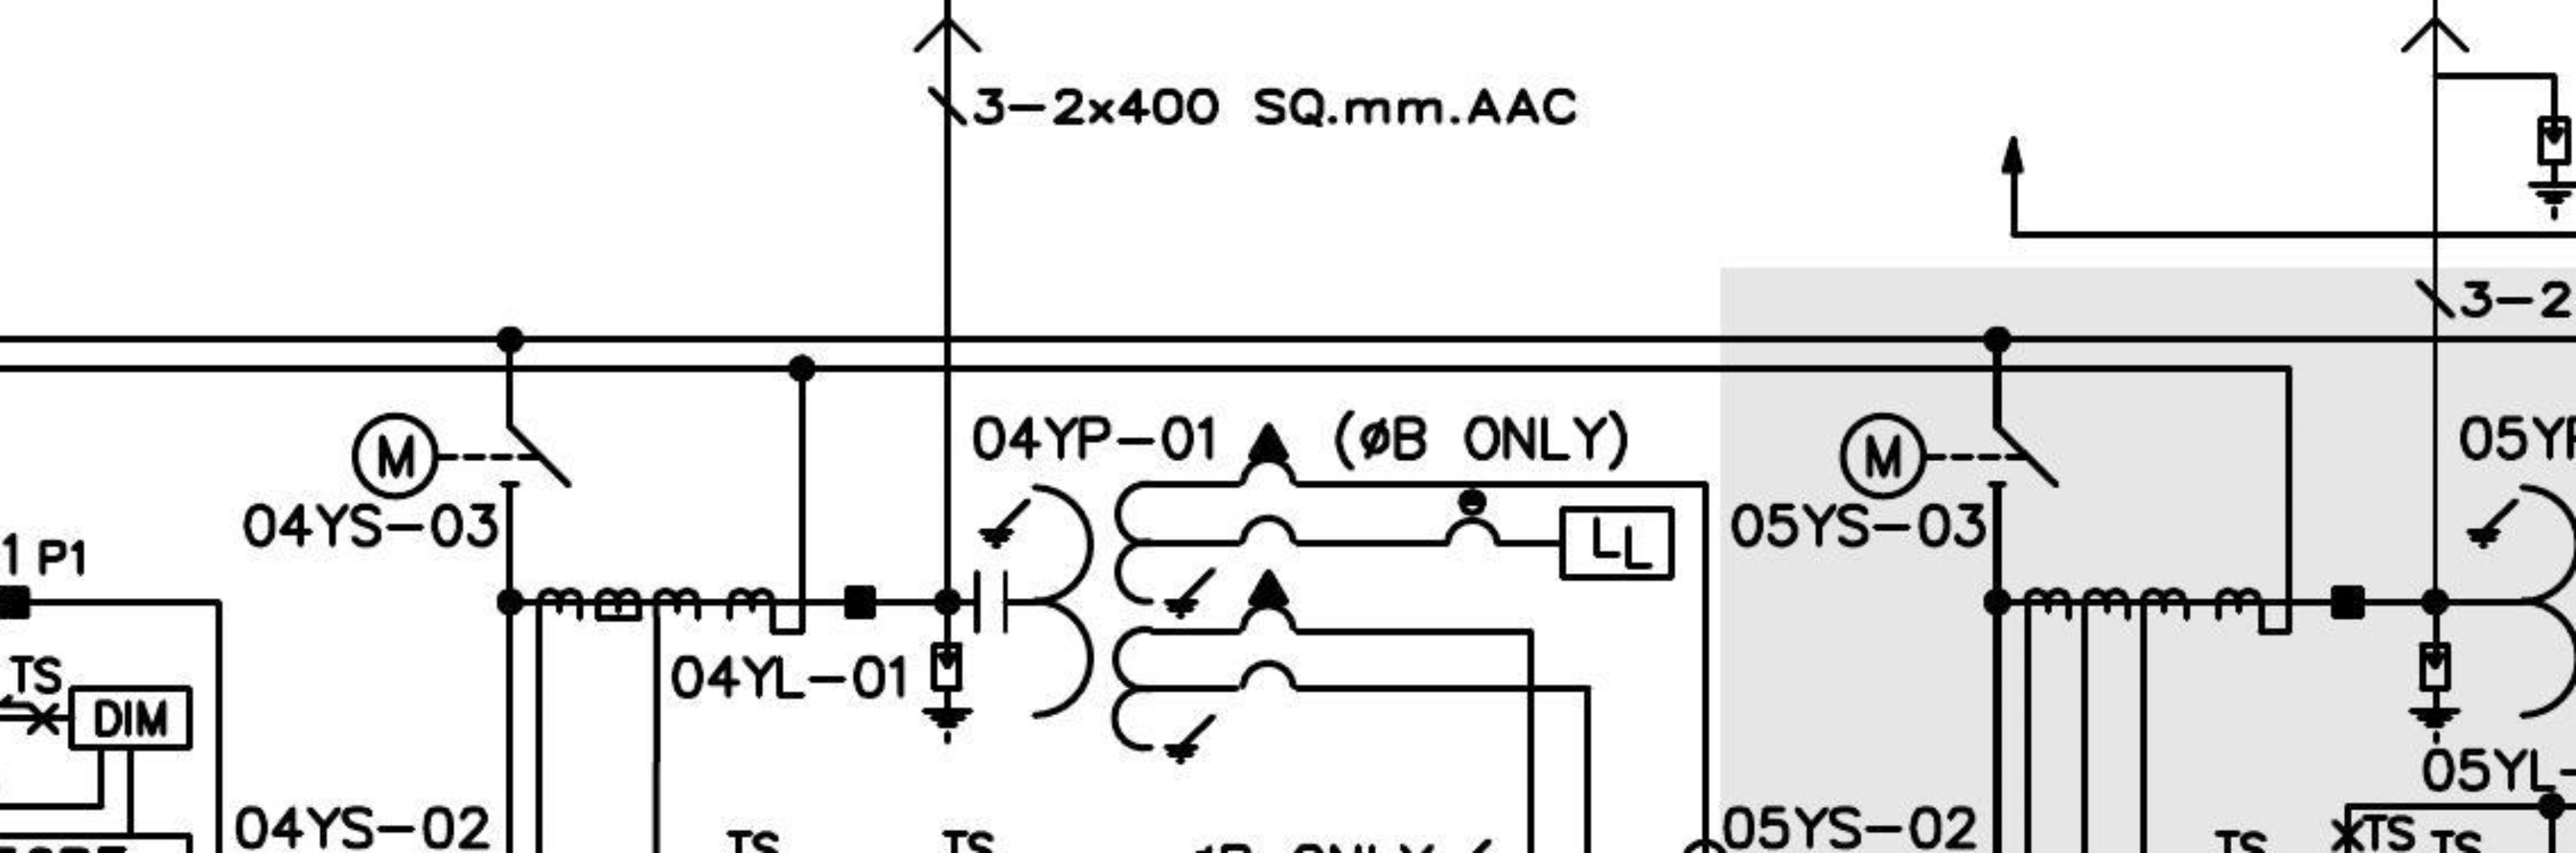115_1way_ds_w_motor: (1837, 409, 2060, 503), (350, 409, 573, 501)
115_cvt_1p: (973, 421, 1303, 768)
115_la: (920, 641, 974, 746), (2407, 643, 2461, 746)
DIM: (67, 684, 194, 751)
LL: (1559, 506, 1676, 582)
